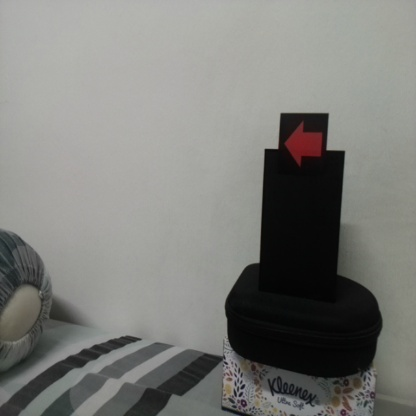id_4: (280, 115, 328, 173)
